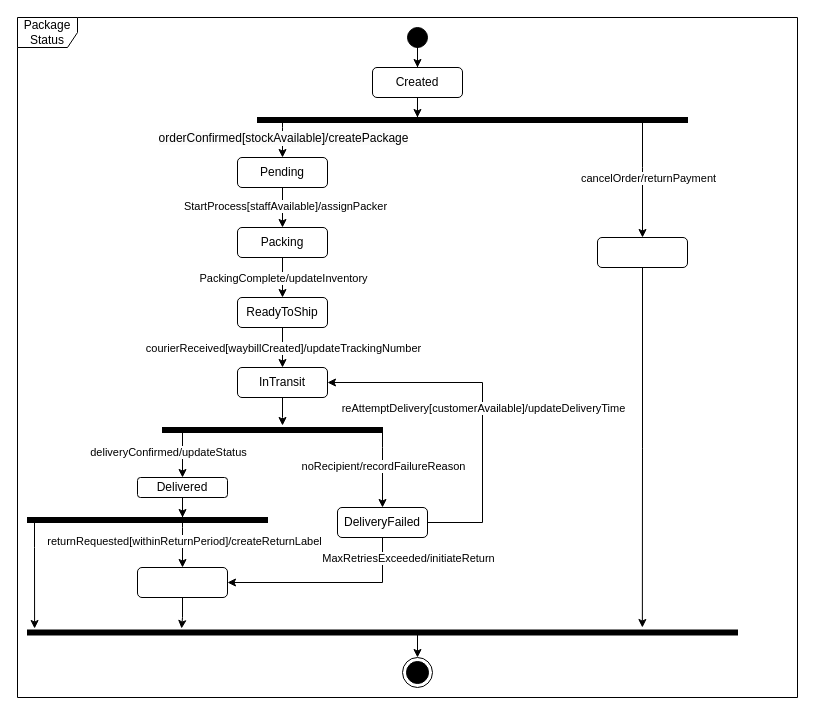
Image size: 815x715. Some labels were removed from this diagram. The shapes that lost their labels are listed below. From the top down, each one's box as (x1, y1, x2, y2) in pixels, then its label:
(596, 236, 688, 268): Cancelled
(136, 566, 228, 598): Returned
